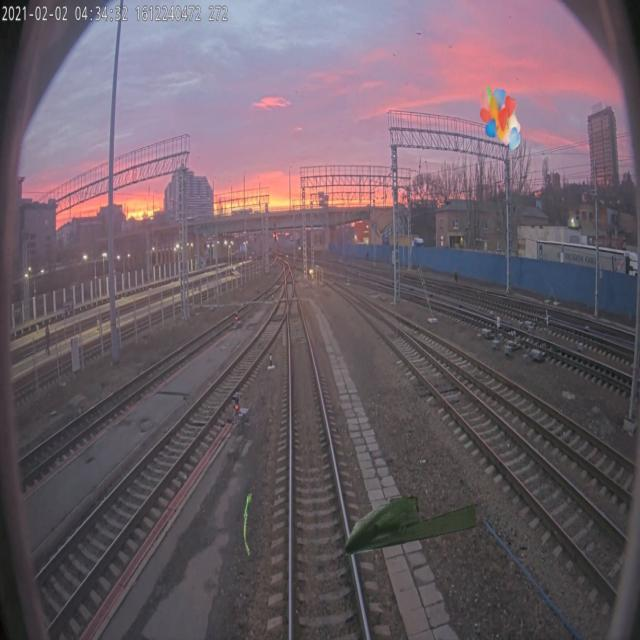balloon: (478, 86, 521, 150)
floating object: (346, 492, 475, 556), (244, 493, 252, 557)
